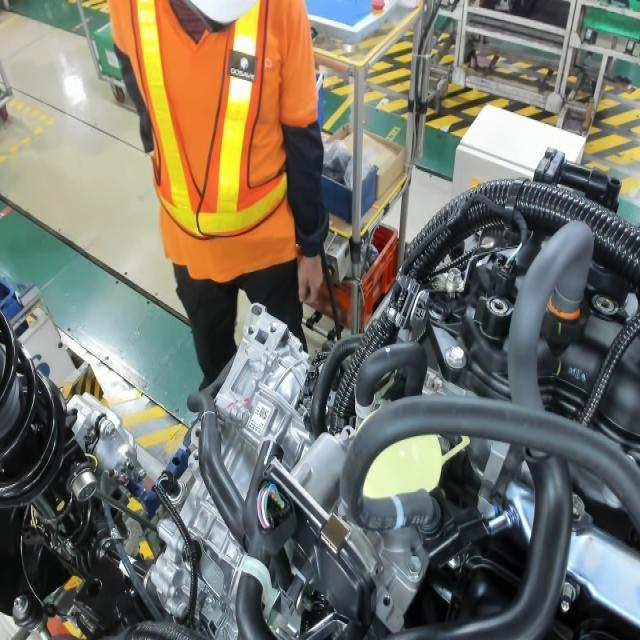Tube Sub Assy Fuel-W: (390, 492, 408, 536)
